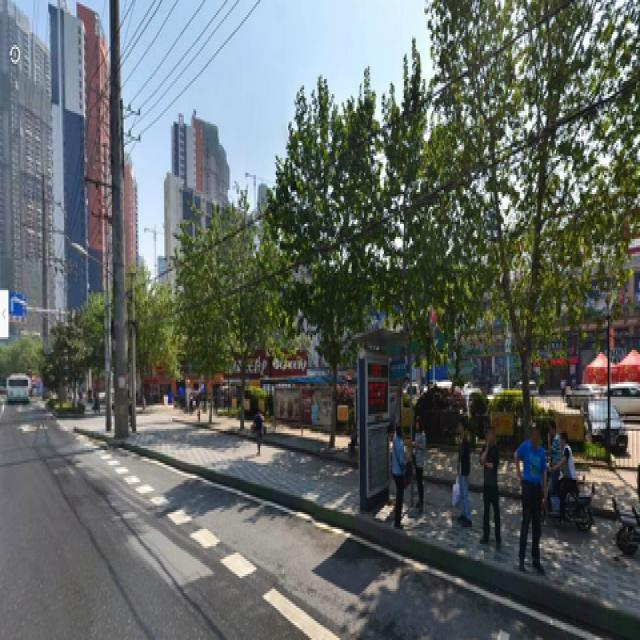meta: (442, 21, 590, 380), (279, 115, 369, 412)
